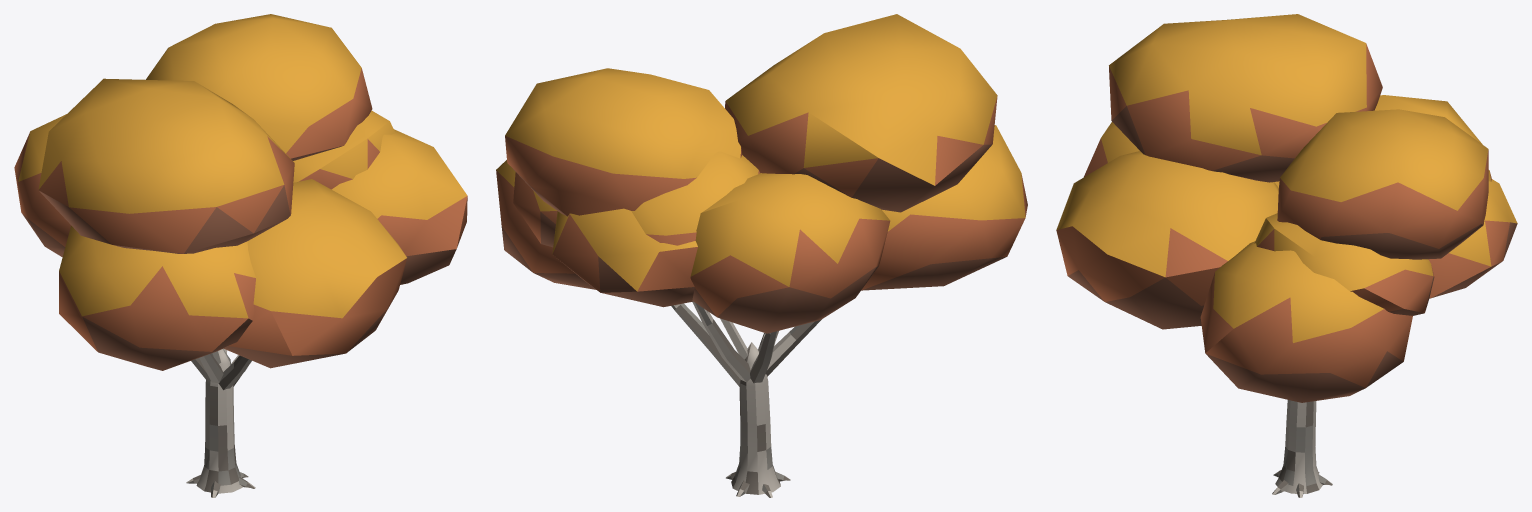
The model's file is SC_Nat_Zelkova_Autumn.gltf.
3 renders of one model, left to right at view 1: azimuth 30°, elevation 25°; view 2: azimuth 150°, elevation 25°; view 3: azimuth 270°, elevation 25°, orthographic. The views are drawn at different scales.
Visible parts, largest first — view 1: SC_Nat_Zelkova_Autumn; view 2: SC_Nat_Zelkova_Autumn; view 3: SC_Nat_Zelkova_Autumn.
Boxes of the visible parts, left/top/right/bottom form: SC_Nat_Zelkova_Autumn: left=14, top=14, right=467, bottom=497; SC_Nat_Zelkova_Autumn: left=496, top=14, right=1027, bottom=497; SC_Nat_Zelkova_Autumn: left=1056, top=14, right=1517, bottom=497.
Size of the model in its own units: 10.69 by 9.94 by 9.98.
1 material, 1 textured.
